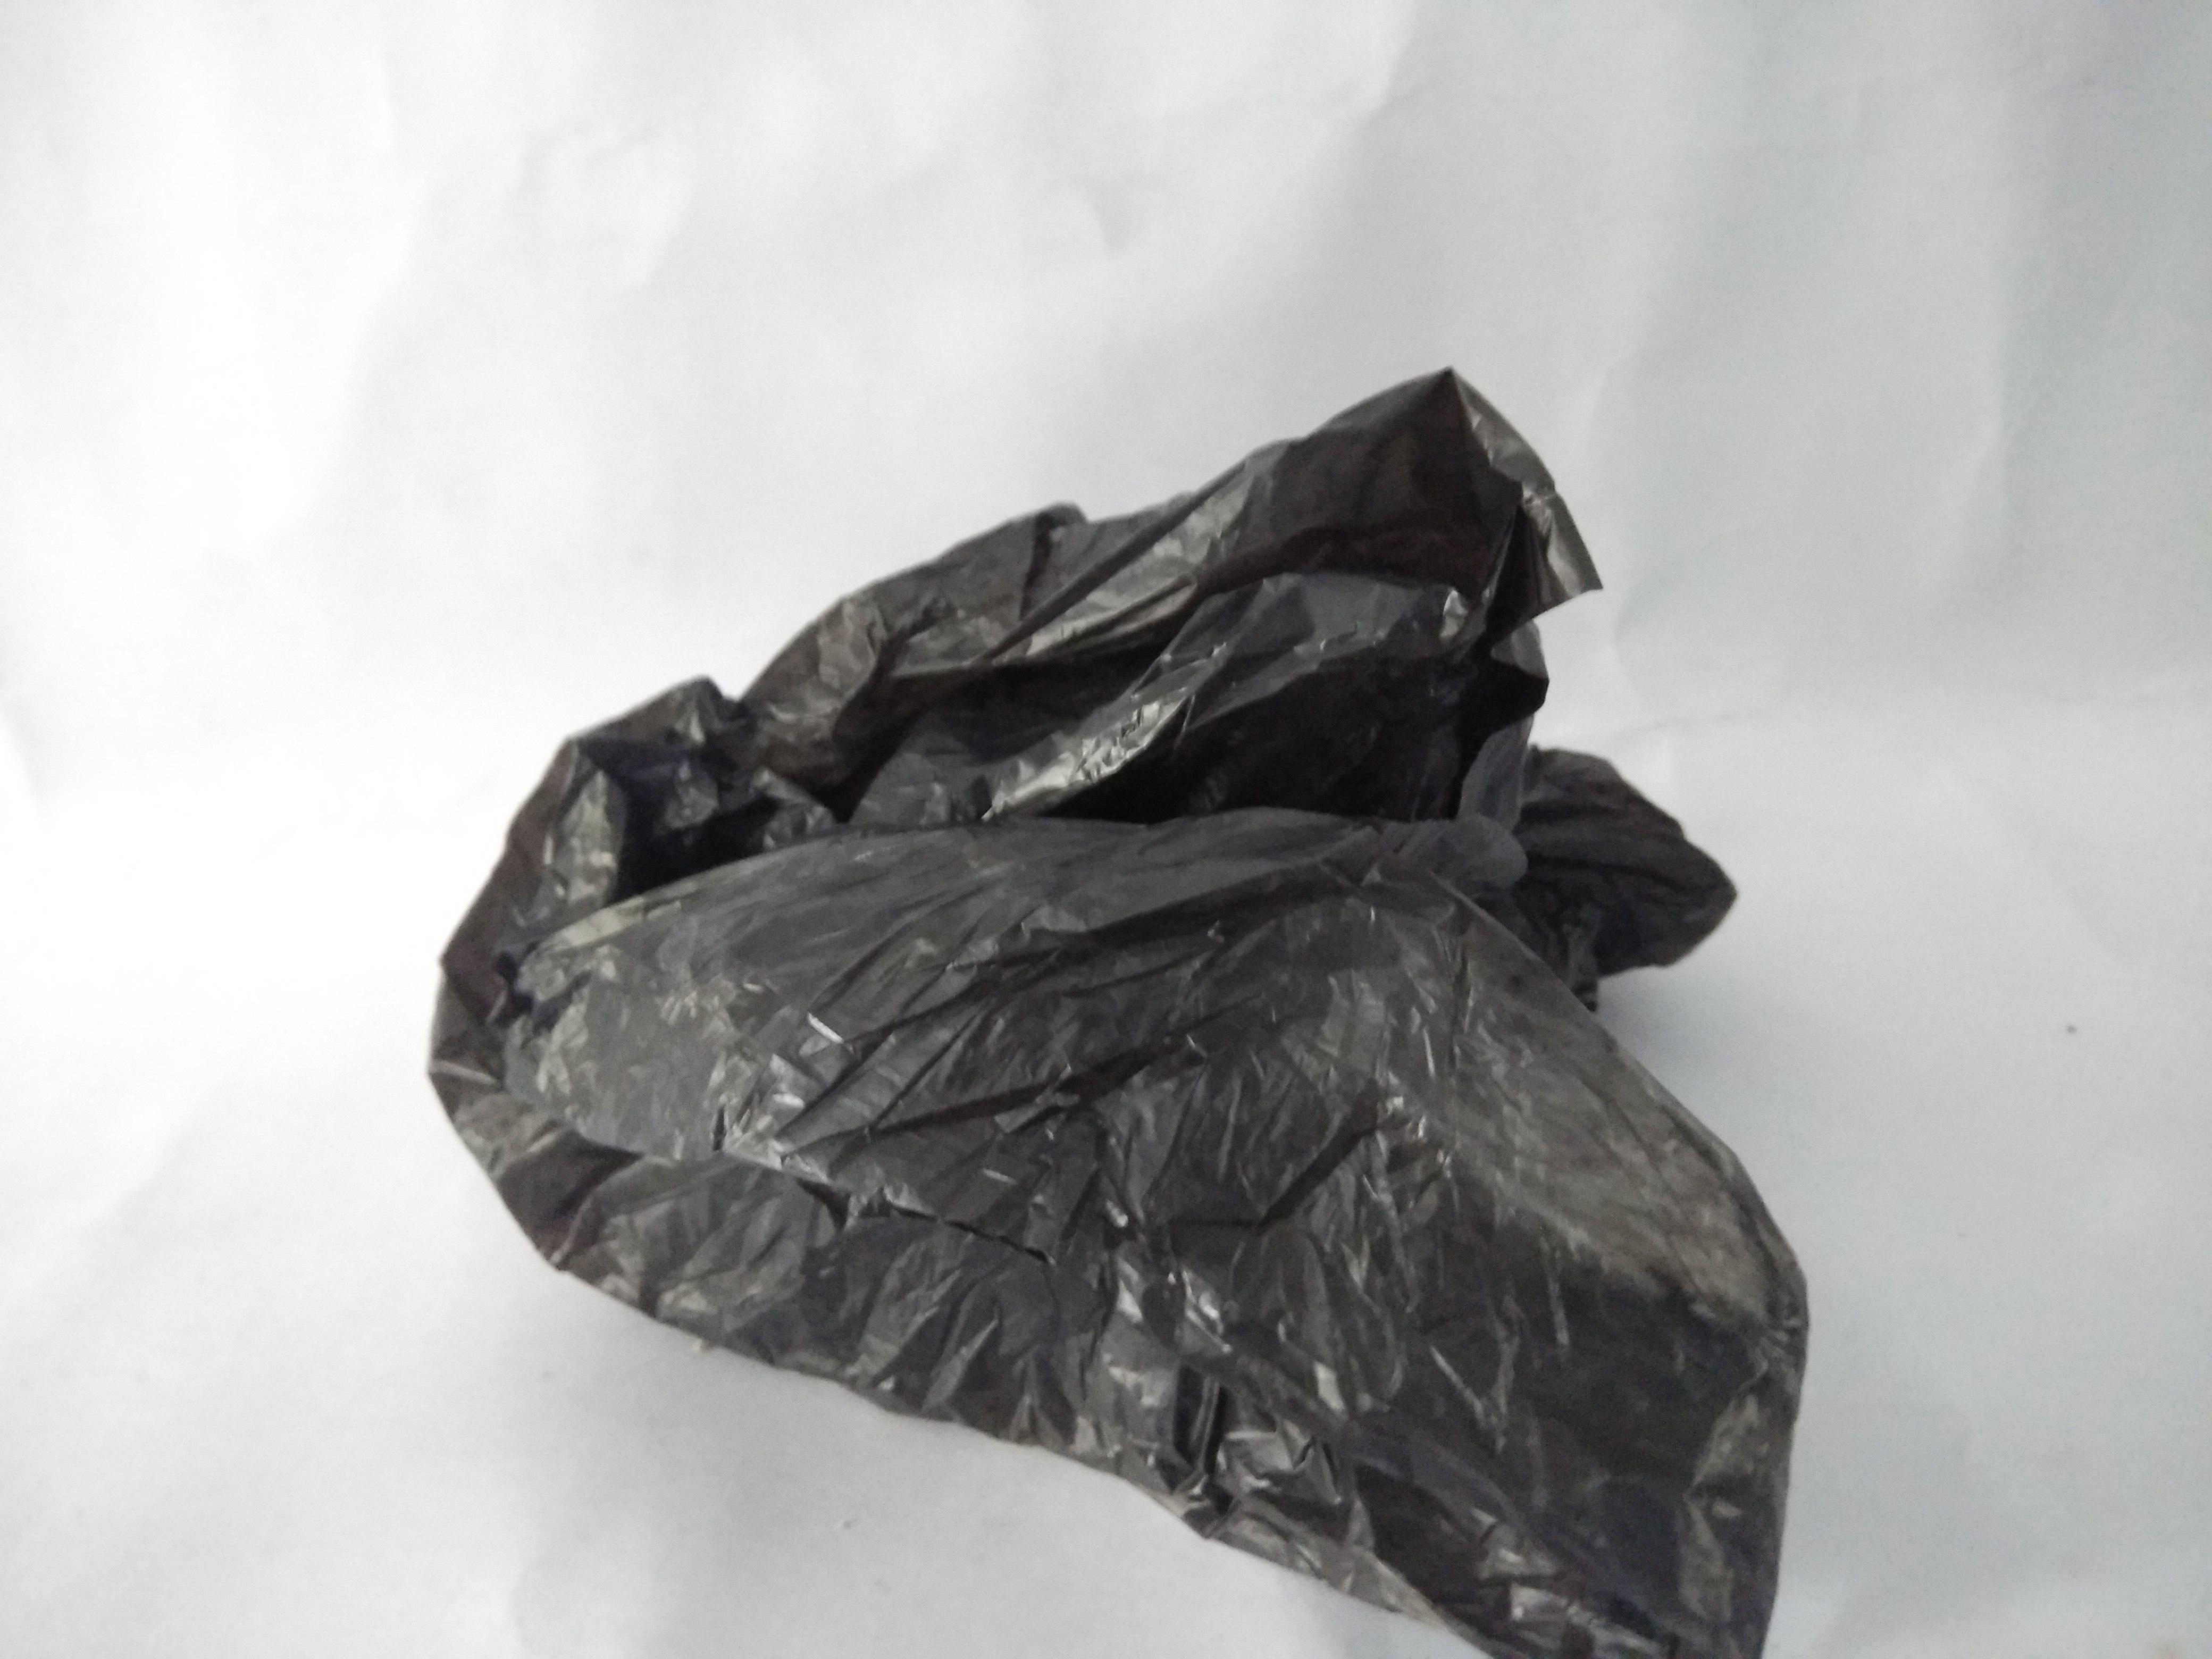LDPE: (124, 66, 2212, 1659)
